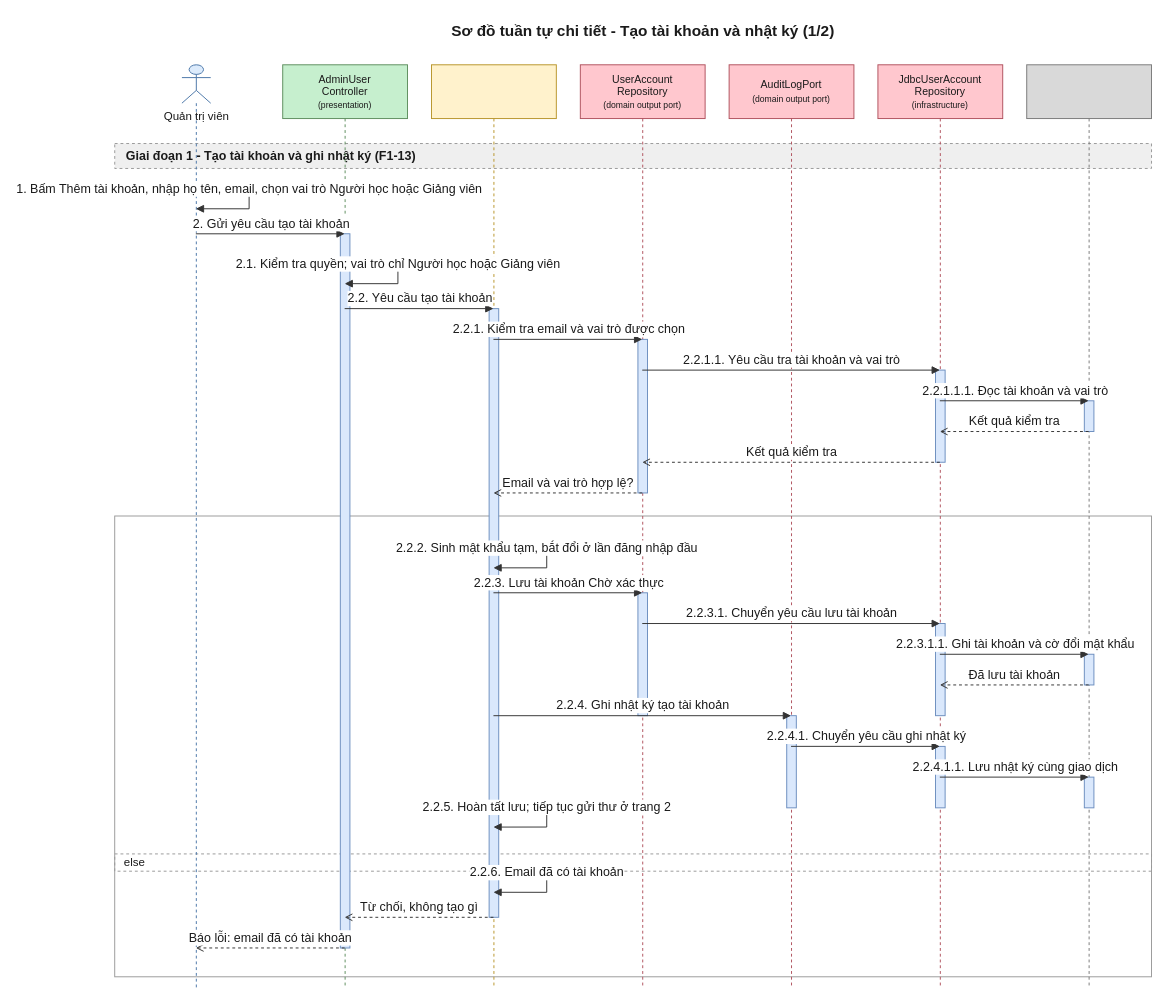
This 1168x1005 diagram has some shape labels left out. Each missing label, with the box of its shape:
alt [Email chưa có tài khoản?]: (114, 515, 1152, 977)
CreateUser CommandHandler (application command): (431, 64, 556, 988)
PostgreSQL (schema identity): (1026, 64, 1152, 988)
